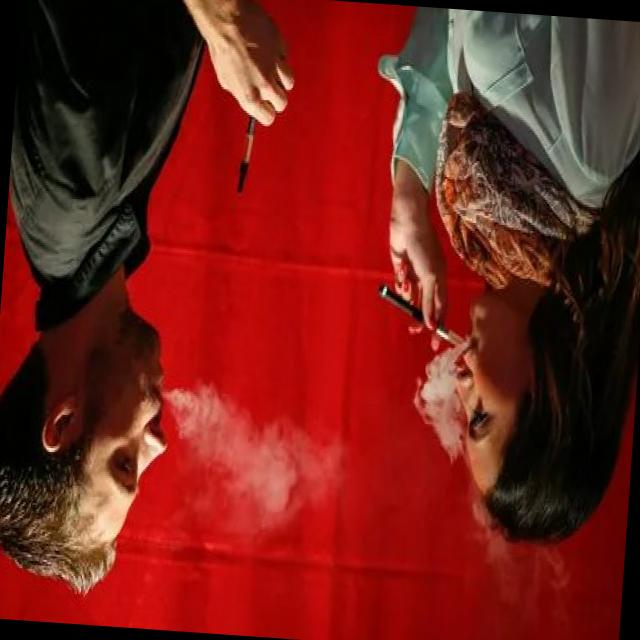smoke: (372, 282, 478, 357), (230, 104, 264, 195)
